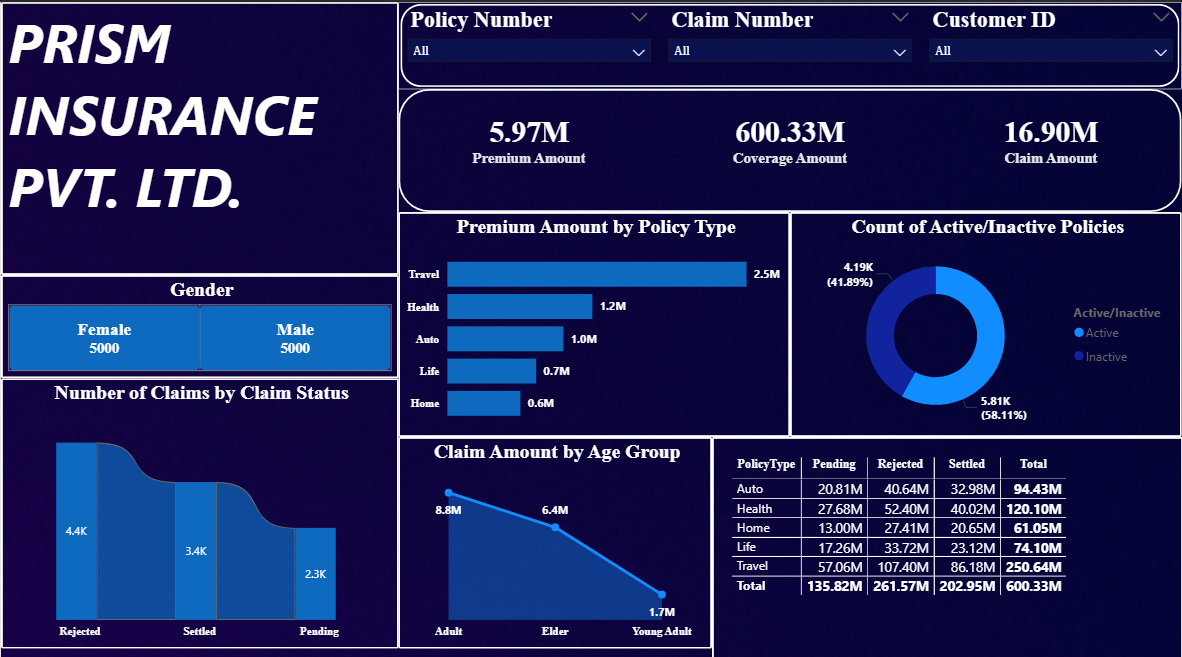

The dashboard page shown, as its layout file describes it:
{"tool":"powerbi","page":{"name":"Insurance Dashboard","canvas":[1280,720],"ordinal":0},"visuals":[{"type":"shape","box":[431,105.7,849.1,122],"z":0},{"type":"shape","box":[431,0,849.1,105.7],"z":1000},{"type":"slicer","fields":{"Values":["InsuranceData.CustomerID"]},"box":[997.1,0,283,105.7],"z":2000},{"type":"slicer","fields":{"Values":["InsuranceData.ClaimNumber"]},"box":[714.1,0,283,105.7],"z":3000},{"type":"slicer","fields":{"Values":["InsuranceData.PolicyNumber"]},"box":[431,0,283,105.7],"z":4000},{"type":"cardVisual","fields":{"Data":["Sum(InsuranceData.PremiumAmount)"]},"box":[431,105.7,283,122],"z":5000},{"type":"cardVisual","fields":{"Data":["Sum(InsuranceData.CoverageAmount)"]},"box":[714.1,105.7,283,122],"z":6000},{"type":"cardVisual","fields":{"Data":["Sum(InsuranceData.ClaimAmount)"]},"box":[997.1,105.7,283,122],"z":7000},{"type":"advancedSlicerVisual","title":"Gender","fields":{"Values":["InsuranceData.Gender"],"Label":["CountNonNull(InsuranceData.Gender)"]},"box":[0,296,431,112.2],"z":8000},{"type":"ribbonChart","title":"Number of Claims by Claim Status","fields":{"Category":["InsuranceData.ClaimStatus"],"Y":["CountNonNull(InsuranceData.ClaimStatus)"]},"box":[0,408.3,431,292.8],"z":9000},{"type":"barChart","title":"Premium Amount by Policy Type","fields":{"Category":["InsuranceData.PolicyType"],"Y":["Sum(InsuranceData.PremiumAmount)"]},"box":[431,227.7,424.5,244],"z":10000},{"type":"lineChart","title":"Claim Amount by Age Group","fields":{"Category":["InsuranceData.Age Group"],"Y":["Sum(InsuranceData.ClaimAmount)"]},"box":[431,471.7,339.9,229.3],"z":11000},{"type":"donutChart","title":"Count of Active/Inactive Policies","fields":{"Category":["InsuranceData.Active/Inactive"],"Y":["CountNonNull(InsuranceData.Active/Inactive)"]},"box":[855.6,227.7,424.5,244],"z":12000},{"type":"pivotTable","fields":{"Values":["Sum(InsuranceData.CoverageAmount)"],"Rows":["InsuranceData.PolicyType"],"Columns":["InsuranceData.ClaimStatus"]},"box":[771,471.7,510.7,248.9],"z":13000},{"type":"textbox","title":"PRISM INSURANCE PVT. LTD.","box":[0,0,431,296],"z":14000}]}

Visuals, with their boxes in screenshot pixels (x1, y1, x2, y2), scaled from the page's 1280x720 canvas onto the 1182x657 screenshot:
shape: 398:96:1181:208
shape: 398:0:1181:96
slicer - InsuranceData.CustomerID: 921:0:1181:96
slicer - InsuranceData.ClaimNumber: 659:0:921:96
slicer - InsuranceData.PolicyNumber: 398:0:659:96
cardVisual - Sum(InsuranceData.PremiumAmount): 398:96:659:208
cardVisual - Sum(InsuranceData.CoverageAmount): 659:96:921:208
cardVisual - Sum(InsuranceData.ClaimAmount): 921:96:1181:208
"Gender" advancedSlicerVisual: 0:270:398:372
"Number of Claims by Claim Status" ribbonChart: 0:373:398:640
"Premium Amount by Policy Type" barChart: 398:208:790:430
"Claim Amount by Age Group" lineChart: 398:430:712:640
"Count of Active/Inactive Policies" donutChart: 790:208:1181:430
pivotTable - Sum(InsuranceData.CoverageAmount) x InsuranceData.PolicyType: 712:430:1181:656
"PRISM INSURANCE PVT. LTD." textbox: 0:0:398:270
